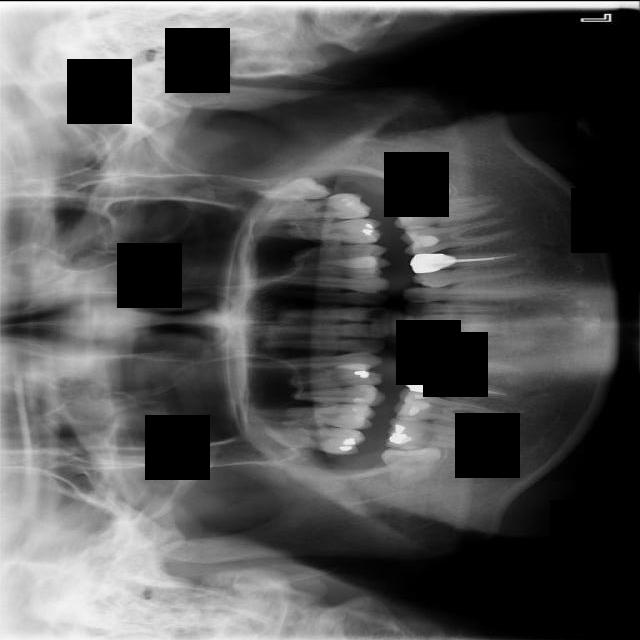52: (390, 383, 444, 430), (397, 217, 447, 261), (382, 414, 437, 452), (388, 192, 440, 230), (325, 398, 377, 432), (314, 424, 365, 456), (315, 191, 372, 218), (336, 359, 385, 388), (333, 217, 383, 243), (337, 383, 386, 408), (409, 250, 457, 274), (404, 369, 449, 393), (317, 197, 328, 204)
73: (434, 375, 515, 401), (443, 250, 518, 268), (598, 18, 612, 24)
BioHorizons Implant: (261, 191, 371, 220)
BioLife Implant: (251, 175, 333, 201)
Biomet 3i Implant: (390, 151, 453, 198)
Blue Sky Bio Implant: (389, 194, 498, 228)
Caries: (261, 419, 368, 457)
Implant: (384, 416, 494, 449)
Keystone Dental Implant: (380, 445, 444, 490)
